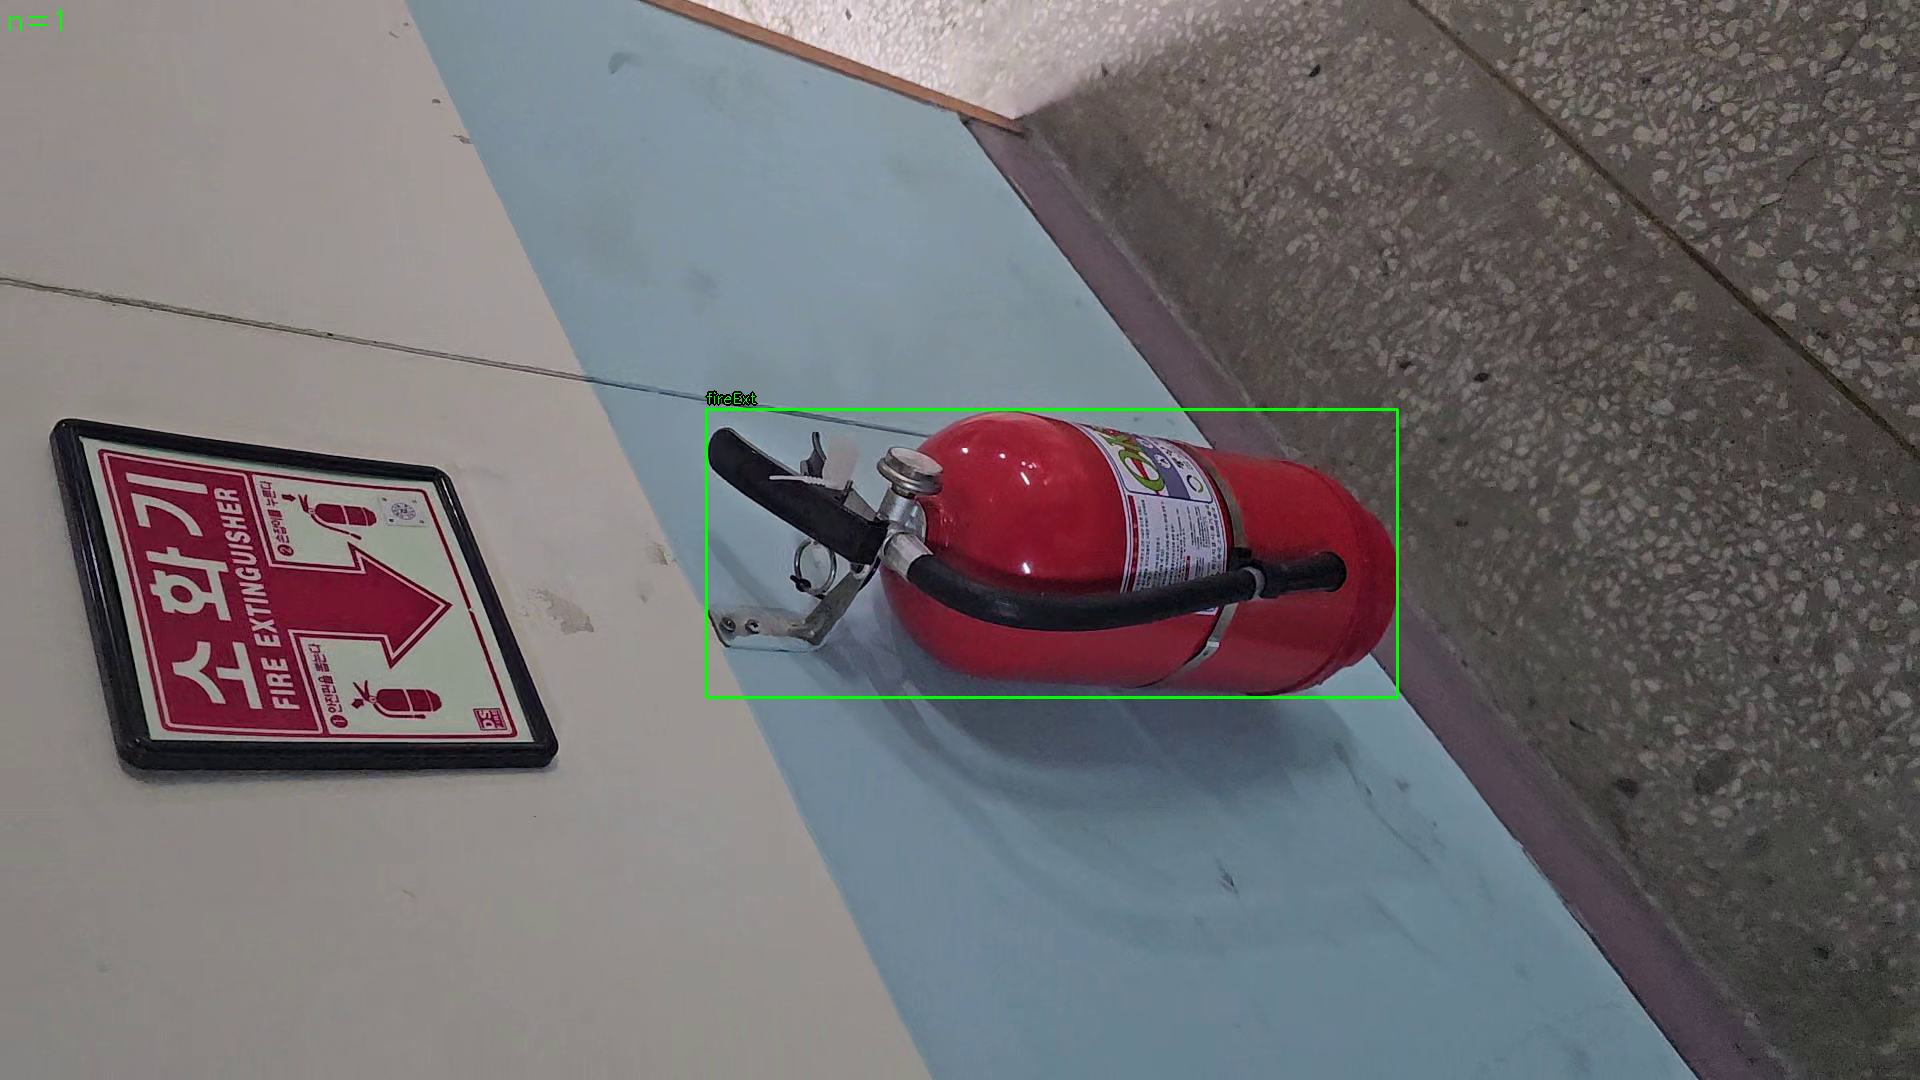lane: (705, 409, 1398, 698)
